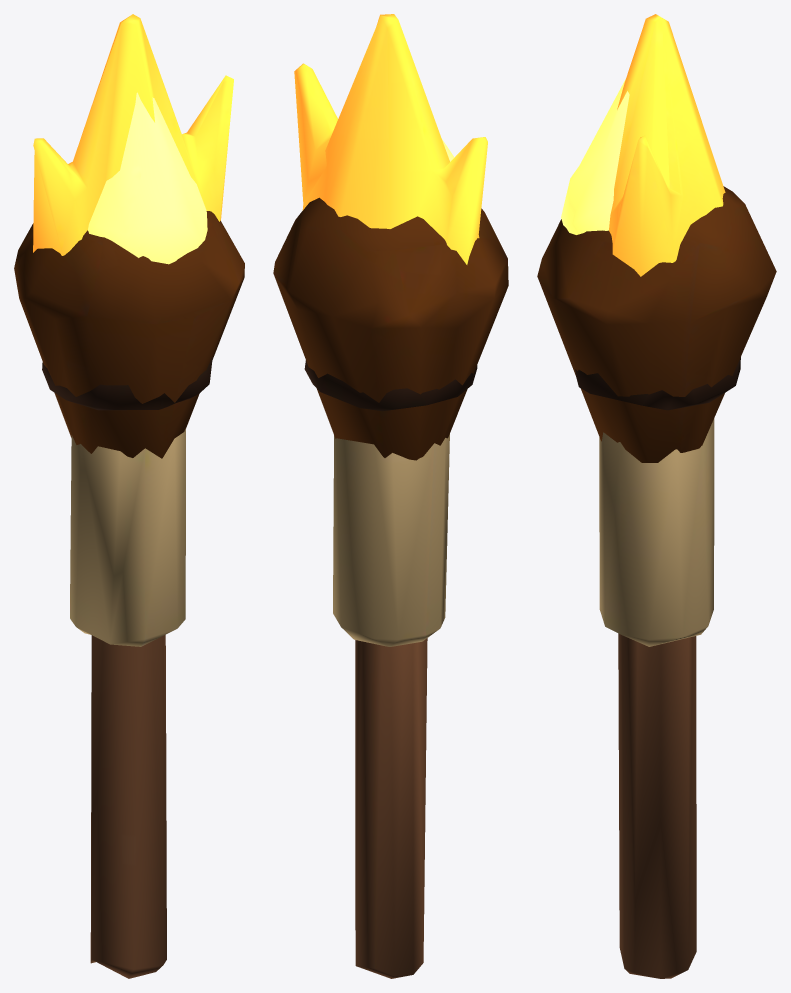
Rendered from treasure-hunter-torch.glb.
The picture shows the model from 3 angles, left to right: view 1: azimuth 30°, elevation 25°; view 2: azimuth 150°, elevation 25°; view 3: azimuth 270°, elevation 25°; orthographic projection.
Visible parts, largest first — view 1: torch, flame, flame-core; view 2: torch, flame; view 3: torch, flame, flame-core.
Part boxes in pixels (box(x1,y1,x2,y2)): torch: box(14, 211, 244, 978); flame: box(33, 14, 233, 255); flame-core: box(88, 92, 207, 264); torch: box(273, 197, 508, 978); flame: box(294, 14, 487, 264); torch: box(537, 186, 776, 978); flame: box(609, 14, 725, 276); flame-core: box(561, 79, 629, 234).
Size of the model in its own units: 0.0936 by 0.4114 by 0.0936.
3 materials, 3 textured.
